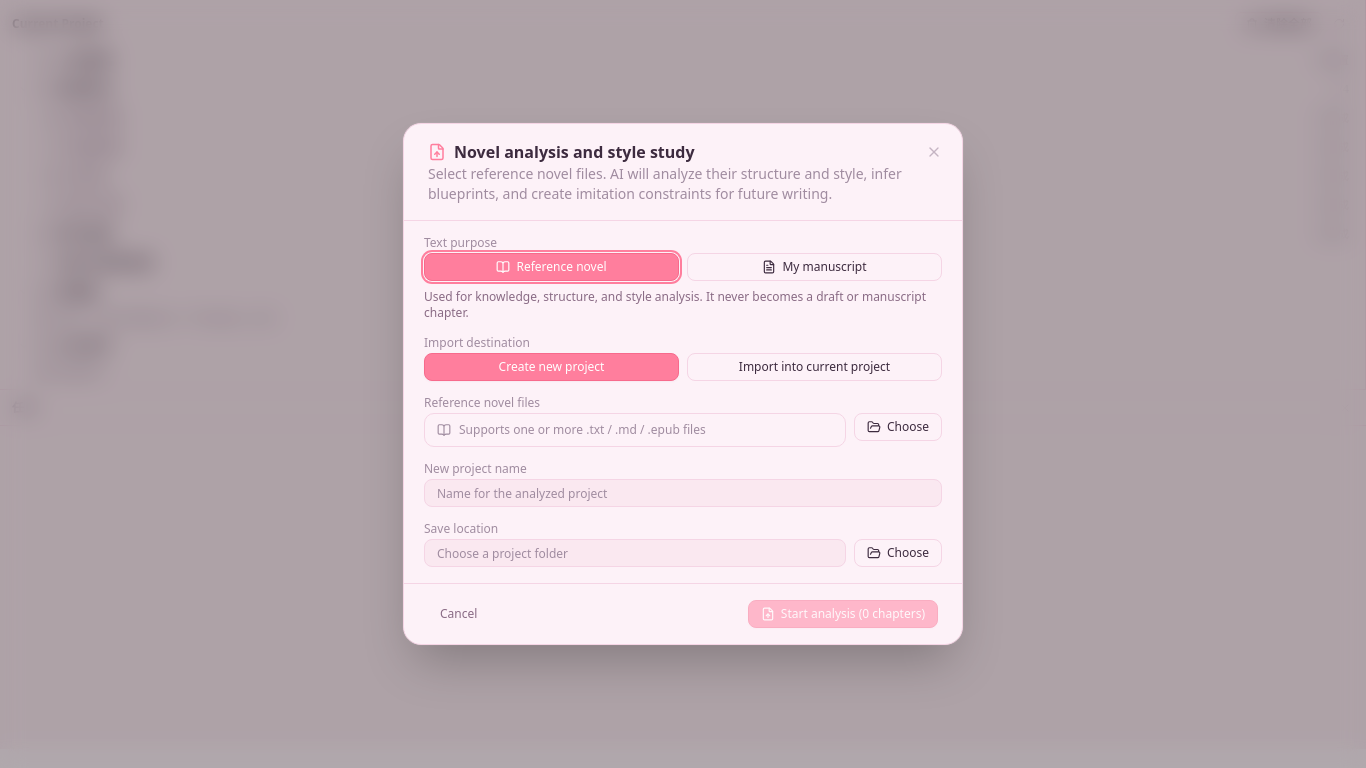
Test: current-project reference import › shows the English author purpose, chapter target, and explicit confirmation action
The width and height of the screenshot is (1366, 768).
Click the button with test id "import-purpose-author": (814, 267) 687,253 -> 942,281
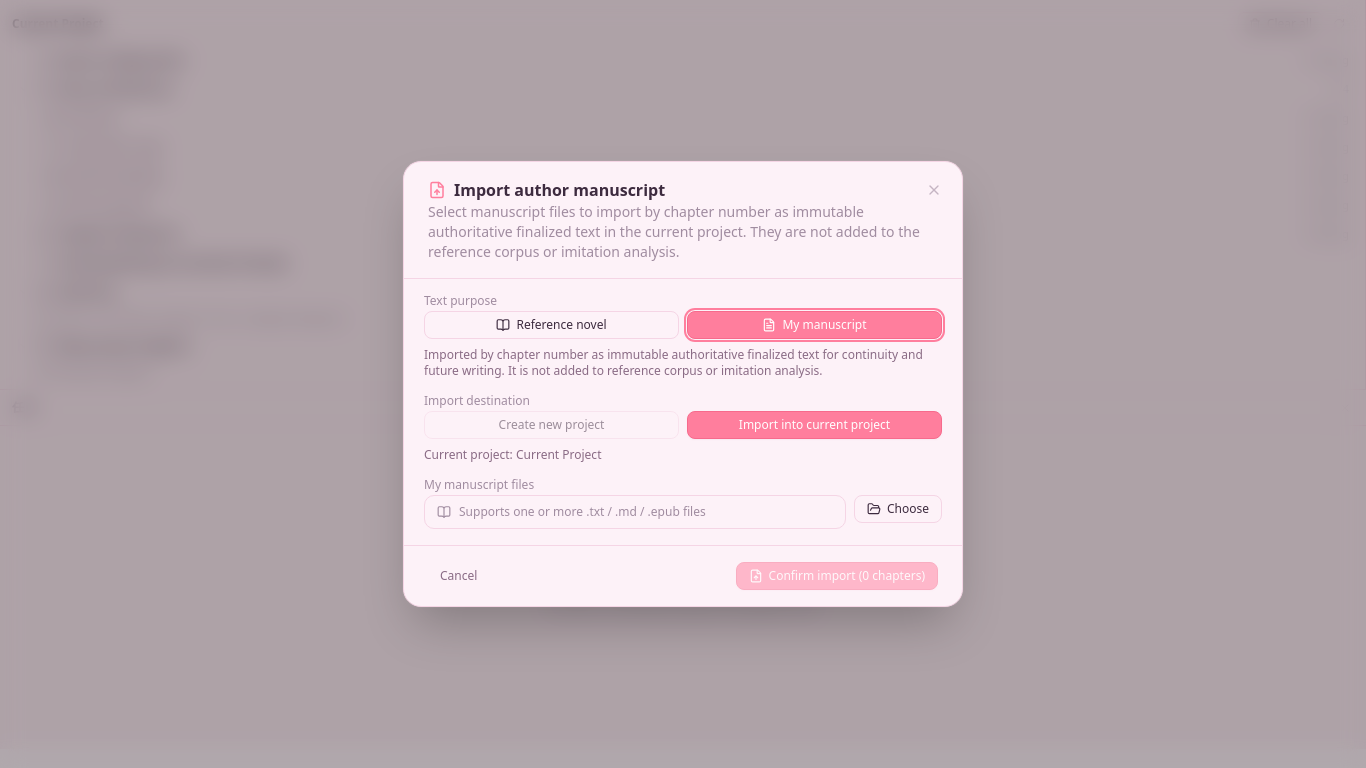
Expected: the text with test id "import-purpose-explanation" shows "authoritative finalized text", 424,346 -> 923,379
Click the button with test id "import-source-choose": (898, 509) 854,495 -> 942,523
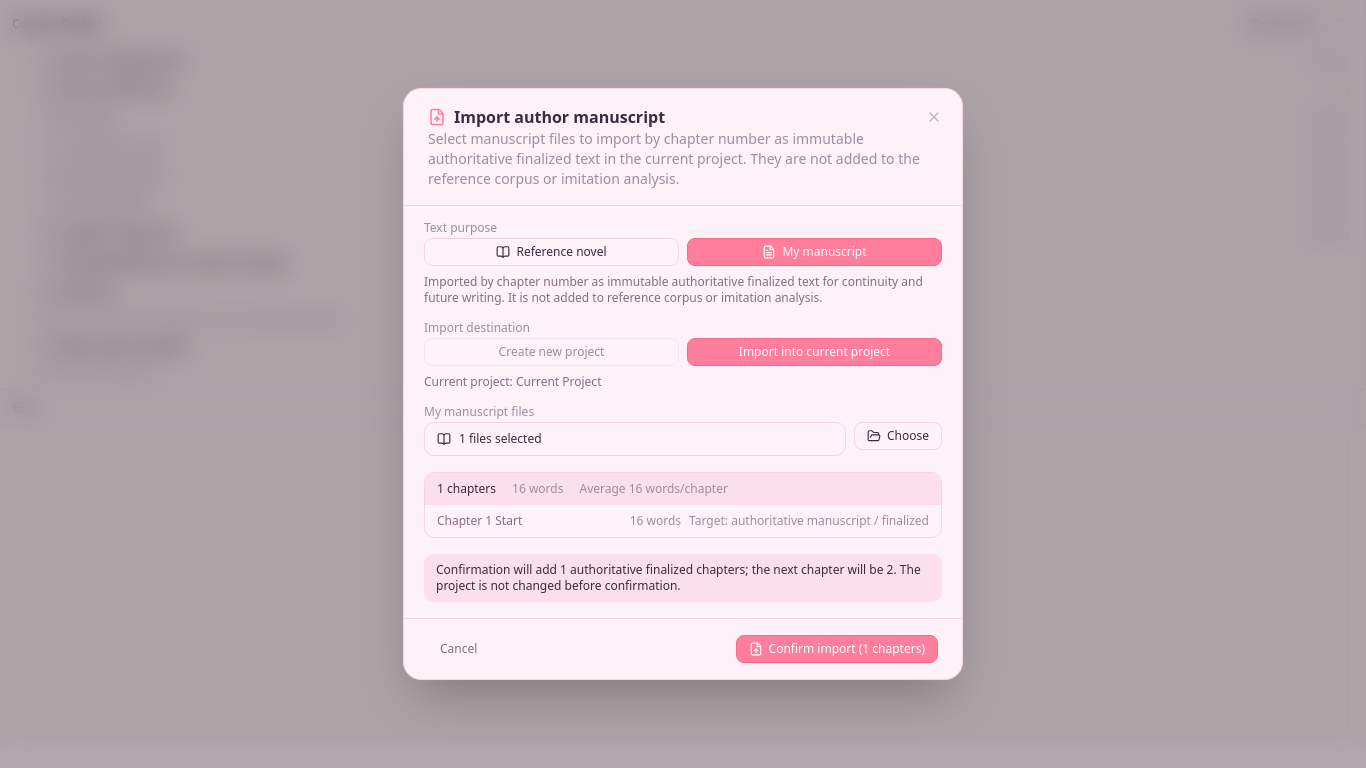
Expected: the text "Chapter 1 Start" is shown, 437,512 -> 522,529
Expected: the text with test id "author-preview-target-1" reads "Target: authoritative manuscript / finalized", 689,512 -> 929,529
